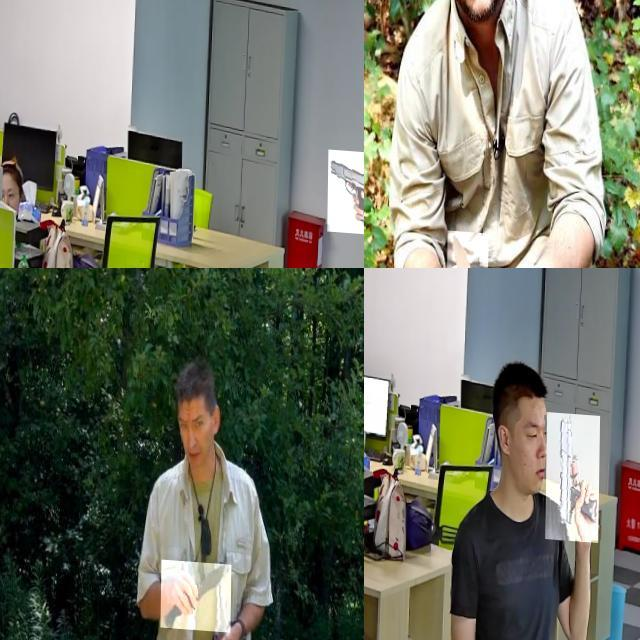-: (162, 555, 232, 627), (447, 225, 489, 268)
gun-knife-thesis - v11 Yolov5 augmented: (546, 408, 601, 538), (328, 143, 364, 228)
